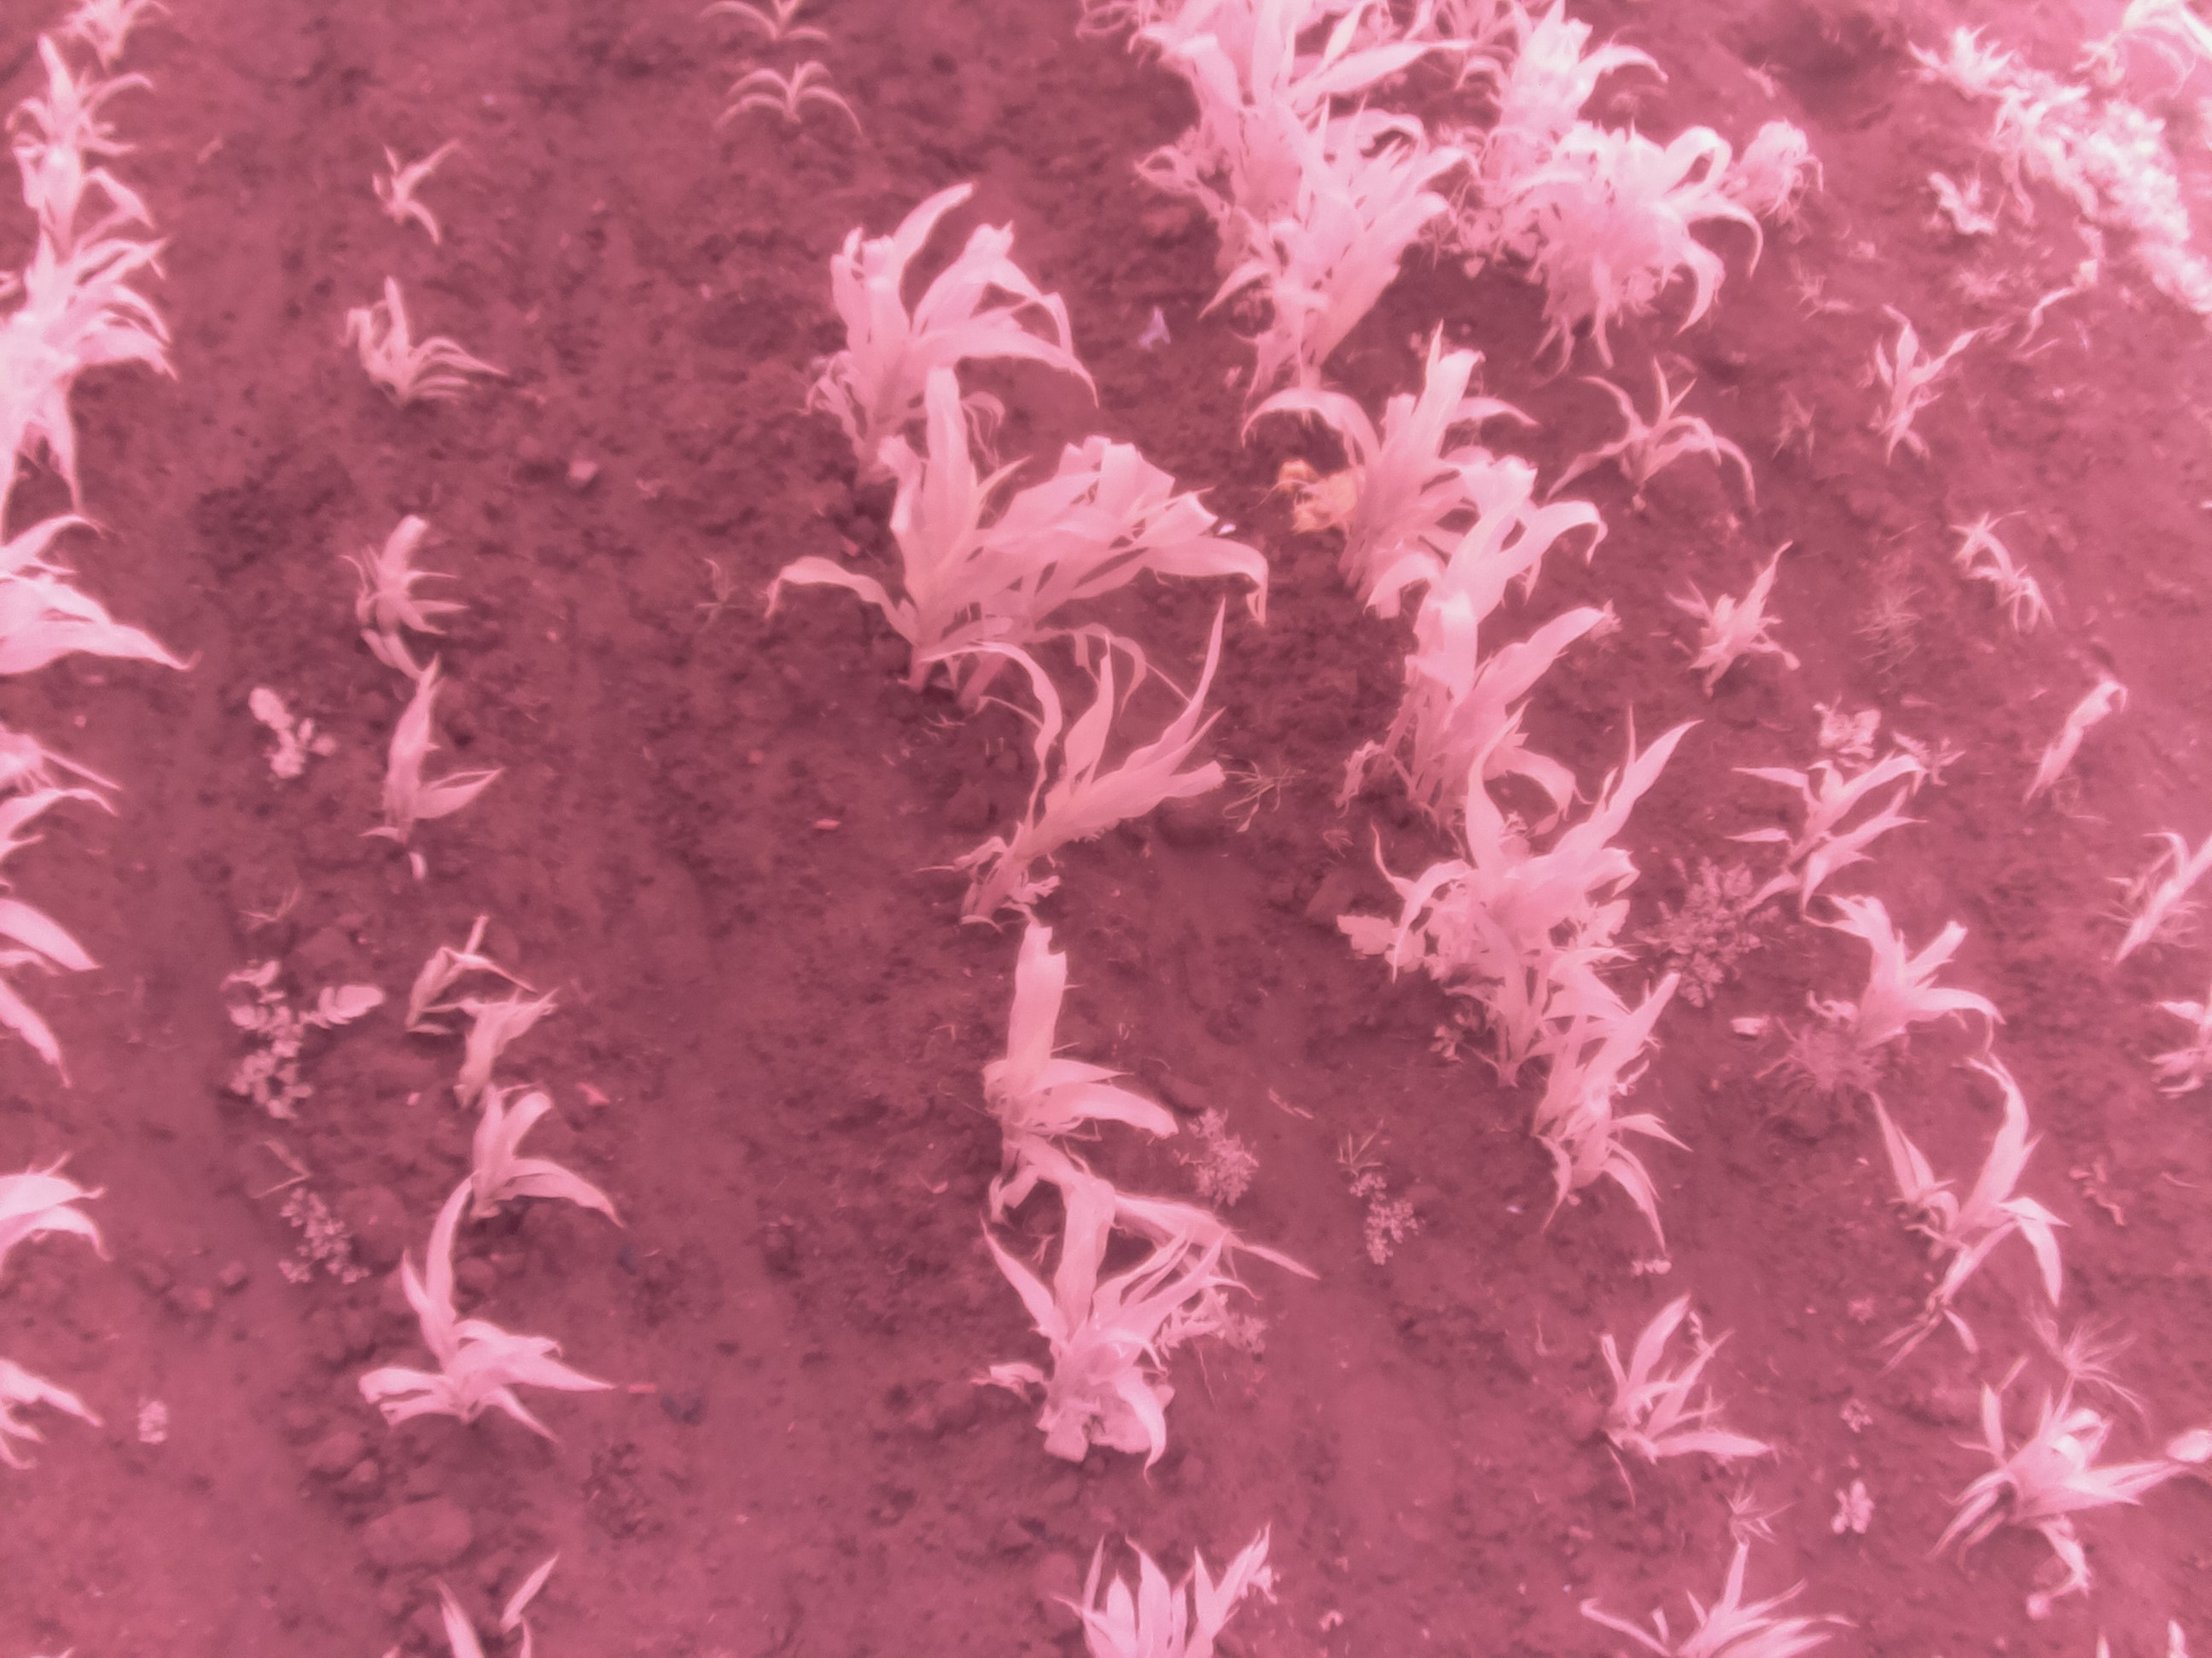Maiz: (900, 606, 1284, 918), (951, 387, 1280, 719), (777, 367, 1099, 697), (1395, 700, 1710, 1026), (1336, 446, 1590, 841), (1146, 0, 1463, 317), (751, 172, 1090, 456), (954, 1184, 1271, 1482), (345, 1169, 618, 1473), (1184, 120, 1449, 434), (1230, 333, 1536, 603), (1839, 1068, 2116, 1341), (925, 900, 1179, 1177), (1935, 1357, 2200, 1604), (1526, 78, 1770, 338), (1756, 873, 2015, 1092), (388, 1062, 632, 1277), (1521, 979, 1700, 1261), (1456, 7, 1660, 253), (1555, 1271, 1775, 1494), (0, 740, 136, 1085), (1740, 679, 1932, 911), (1559, 1522, 1872, 1658), (0, 244, 164, 488), (331, 672, 503, 897), (1550, 343, 1775, 509), (1028, 1520, 1282, 1658), (0, 40, 143, 270), (0, 524, 153, 712), (301, 282, 514, 409), (1858, 286, 2000, 451), (411, 977, 552, 1130), (317, 524, 465, 664), (1660, 550, 1806, 688), (700, 52, 859, 165), (2109, 812, 2212, 970), (2027, 665, 2130, 824), (1987, 78, 2102, 219), (0, 1355, 105, 1493), (355, 136, 486, 239), (2088, 0, 2212, 108), (0, 1169, 108, 1280), (1904, 3, 2013, 108), (1966, 550, 2060, 636), (2149, 975, 2212, 1097), (719, 0, 824, 66), (1942, 512, 2022, 582)
